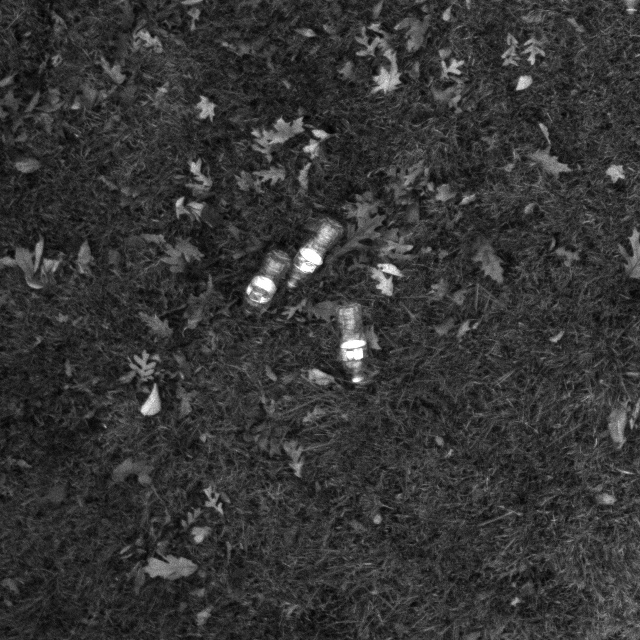bottle: (281, 214, 349, 294), (319, 301, 376, 390), (233, 242, 292, 313)
